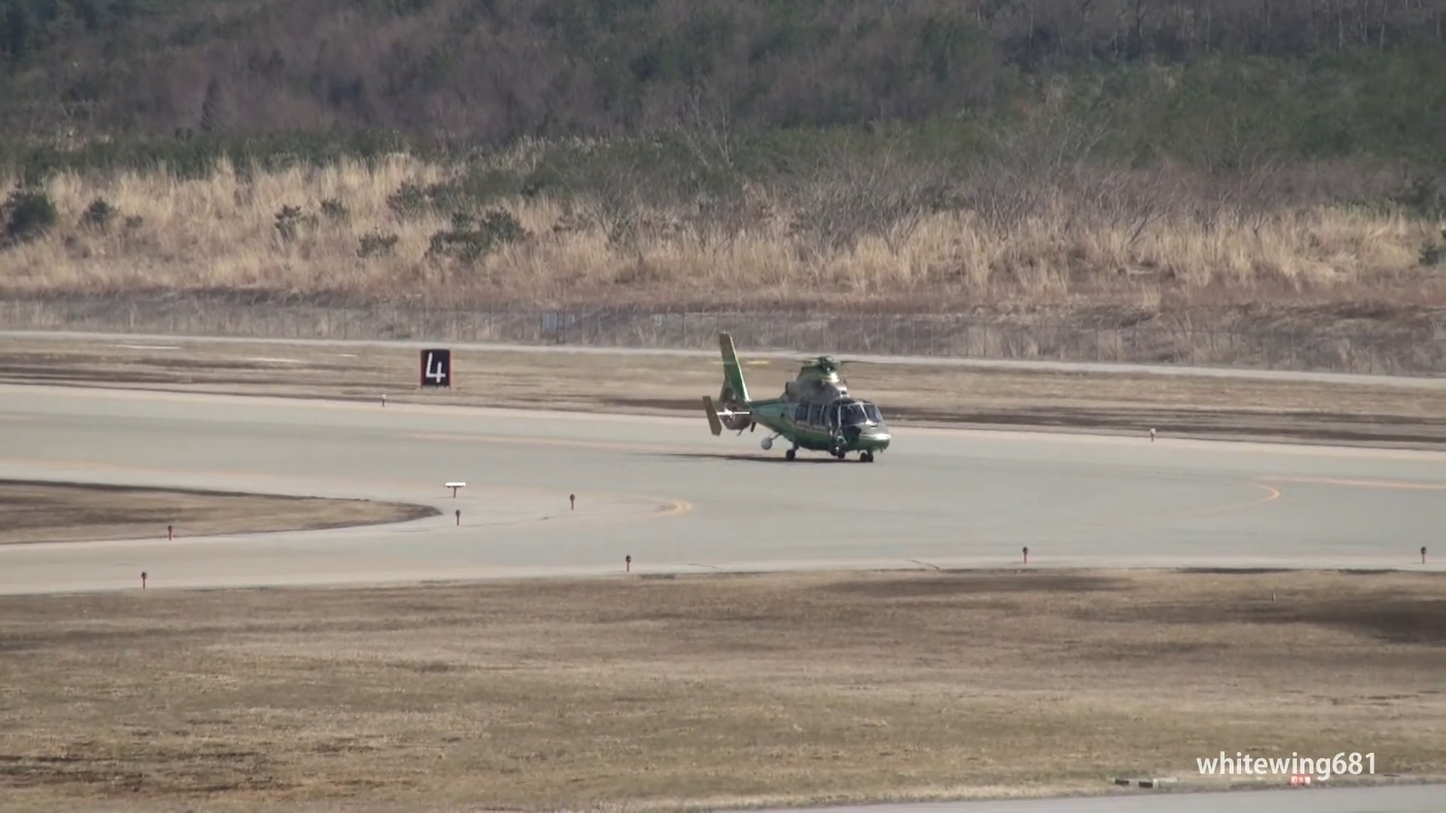helicopter: (691, 330, 896, 473)
